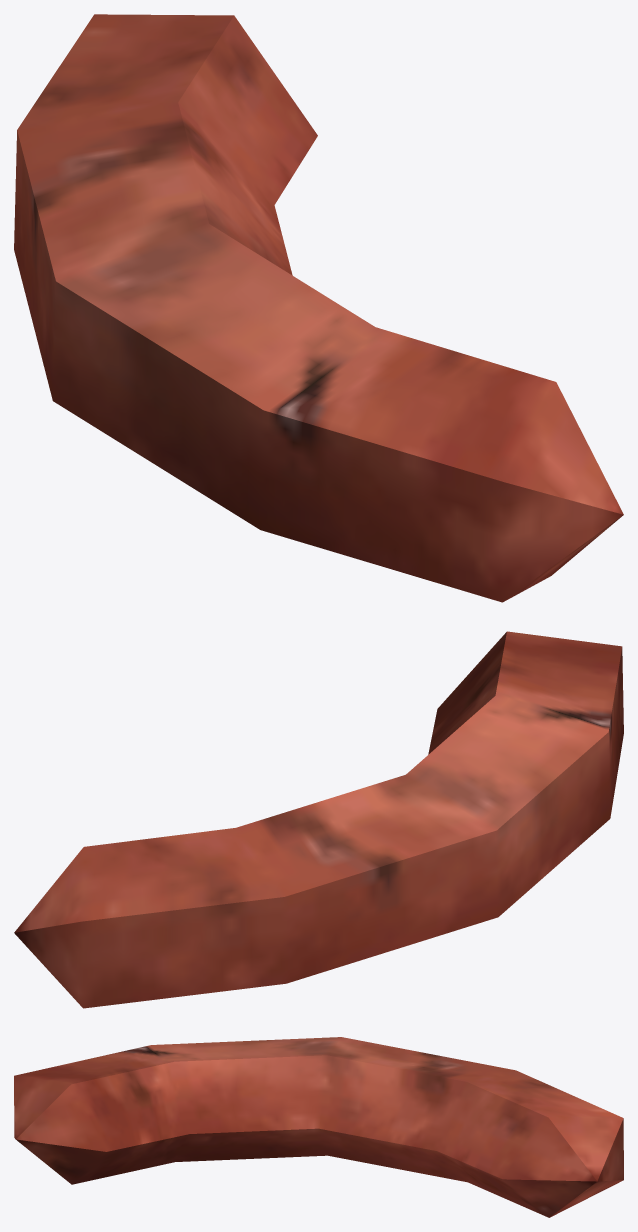
Rendered from salchicha.fbx.
3 views of the same model, one above another, from view 1: azimuth 30°, elevation 25°; view 2: azimuth 150°, elevation 25°; view 3: azimuth 270°, elevation 25° (orthographic). The views are drawn at different scales.
Parts seen in each view (by area): view 1: s4studio_mesh_0; view 2: s4studio_mesh_0; view 3: s4studio_mesh_0.
Part boxes in pixels (x1,y1,x2,y2): s4studio_mesh_0: [14, 14, 623, 602]; s4studio_mesh_0: [14, 631, 623, 1008]; s4studio_mesh_0: [14, 1037, 623, 1217].
Bounding box in the file's own units: 6.85 × 3.03 × 16.09.
1 material, 1 textured.
